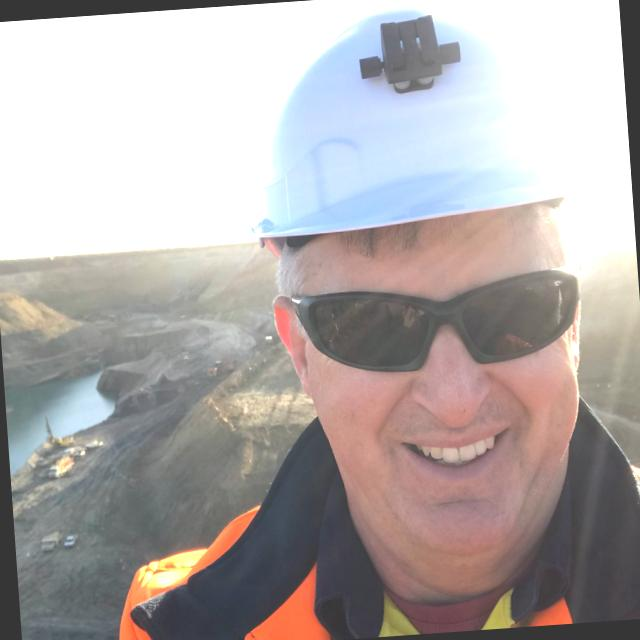goggles: (258, 251, 612, 390)
helmet: (234, 0, 581, 271)
vest: (121, 459, 640, 640)
